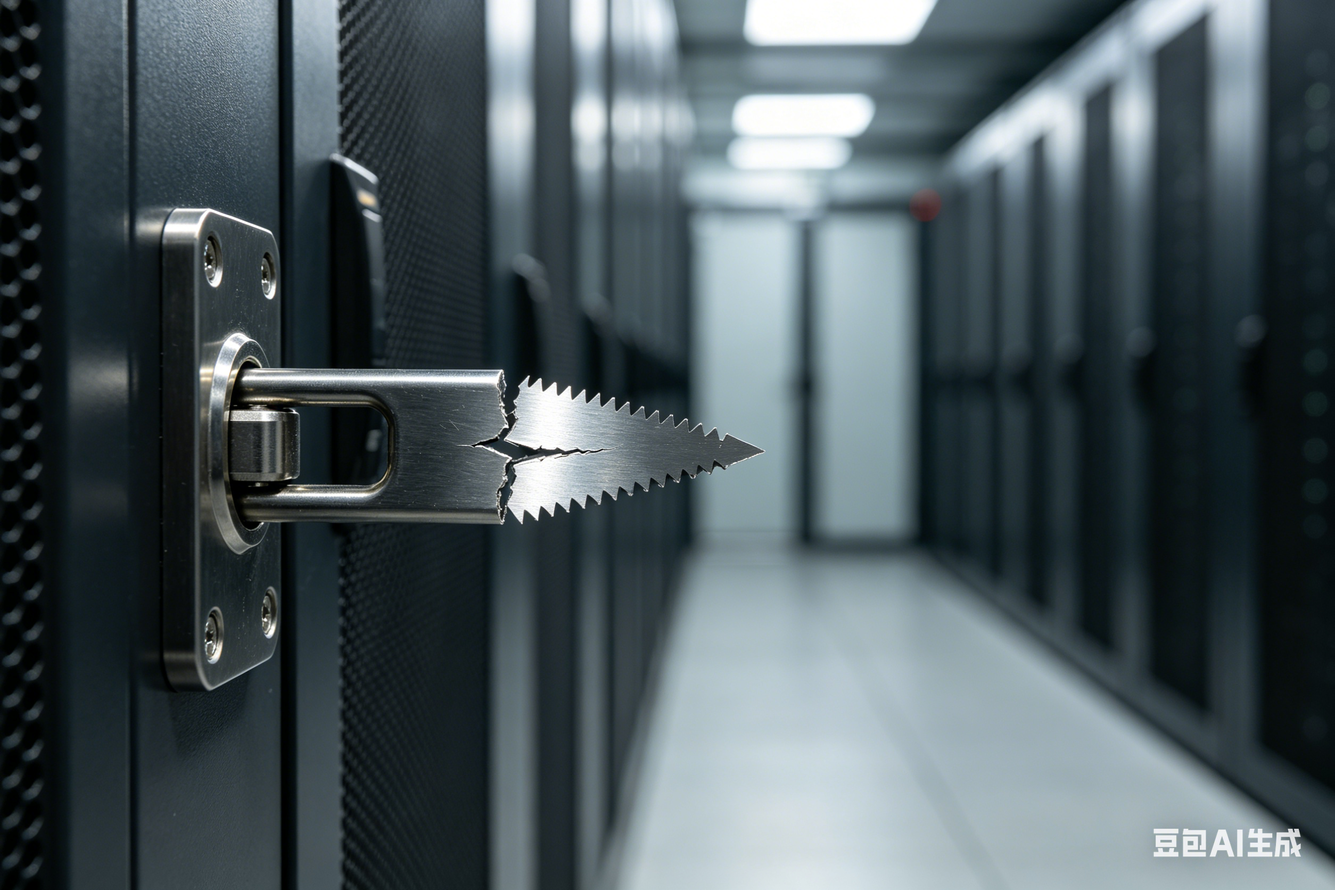BadLock: (433, 366, 600, 535)
